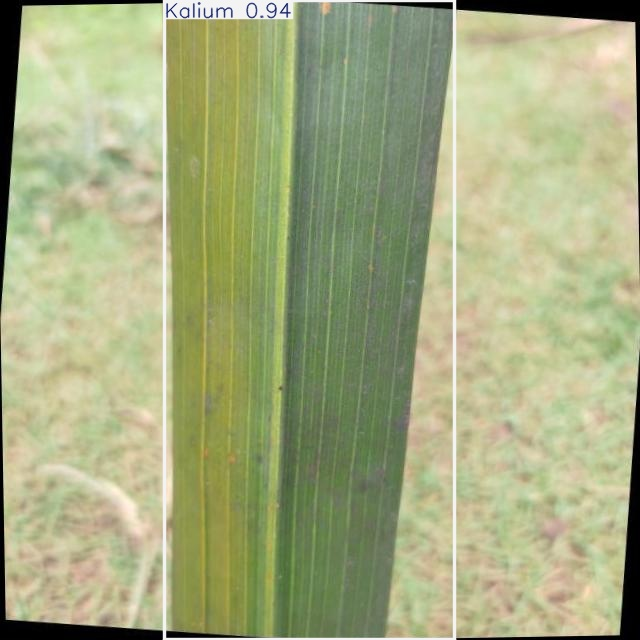Kalium: (165, 1, 455, 640)
